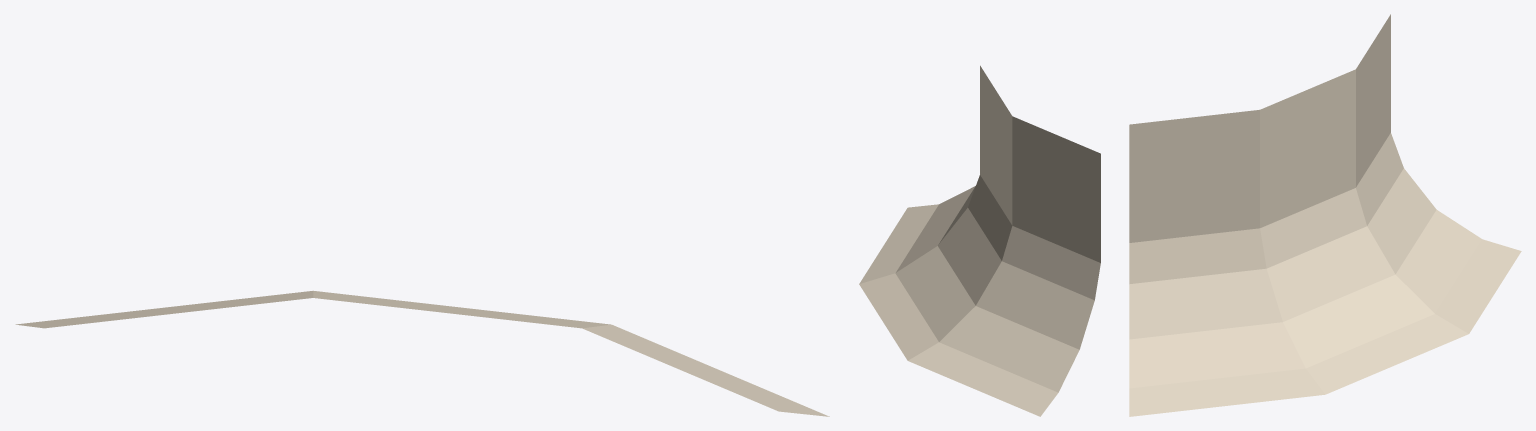
File: Escarpment_Terrain_Corner_Outer_2x2_Base.glb
3 renders of one model, left to right at view 1: azimuth 30°, elevation 25°; view 2: azimuth 150°, elevation 25°; view 3: azimuth 270°, elevation 25°, orthographic. The views are drawn at different scales.
Visible parts, largest first — view 1: Escarpment_Terrain_Corner_Outer_2x2_Base; view 2: Escarpment_Terrain_Corner_Outer_2x2_Base; view 3: Escarpment_Terrain_Corner_Outer_2x2_Base.
Boxes of the visible parts, box(x1,y1,x2,y2) form: Escarpment_Terrain_Corner_Outer_2x2_Base: box(15, 290, 829, 416); Escarpment_Terrain_Corner_Outer_2x2_Base: box(859, 65, 1100, 416); Escarpment_Terrain_Corner_Outer_2x2_Base: box(1129, 14, 1521, 416).
Size of the model in its own units: 1.5 by 1 by 1.5.
